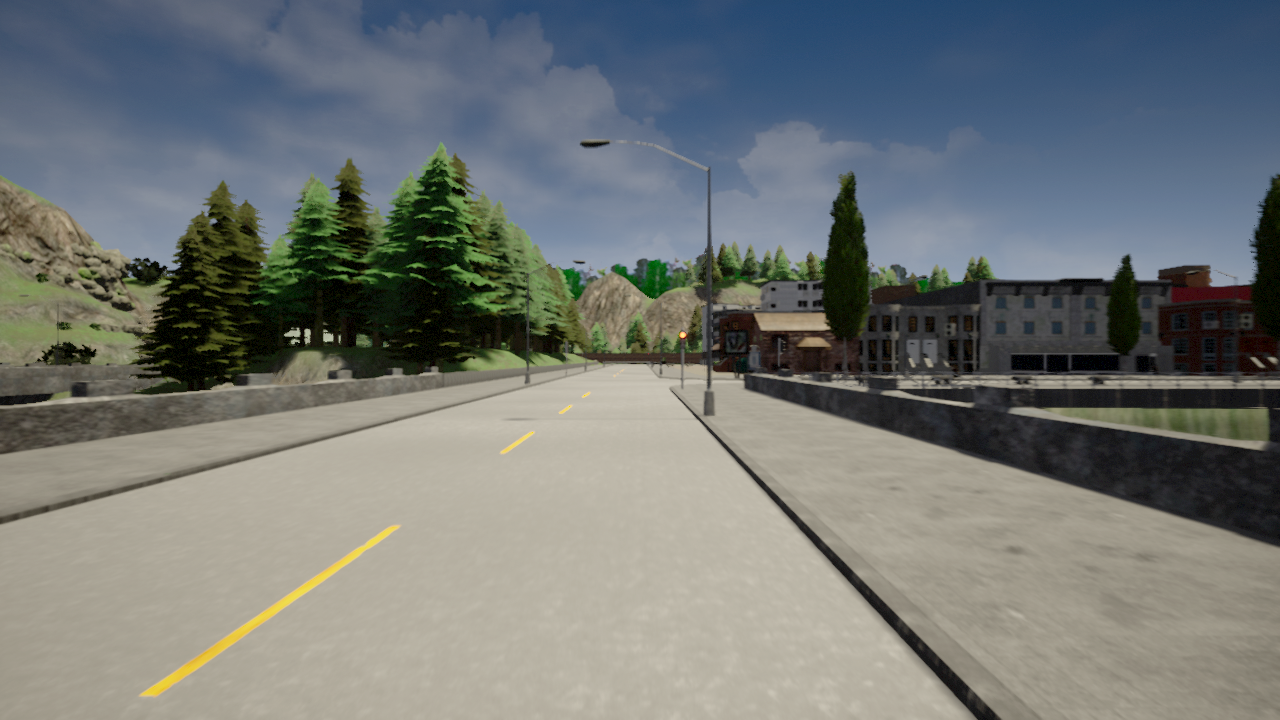red: (679, 330, 686, 349)
